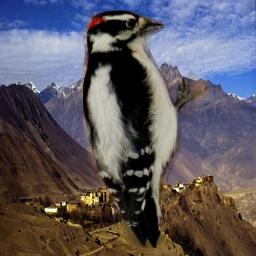Woodpecker: (83, 10, 207, 248)
